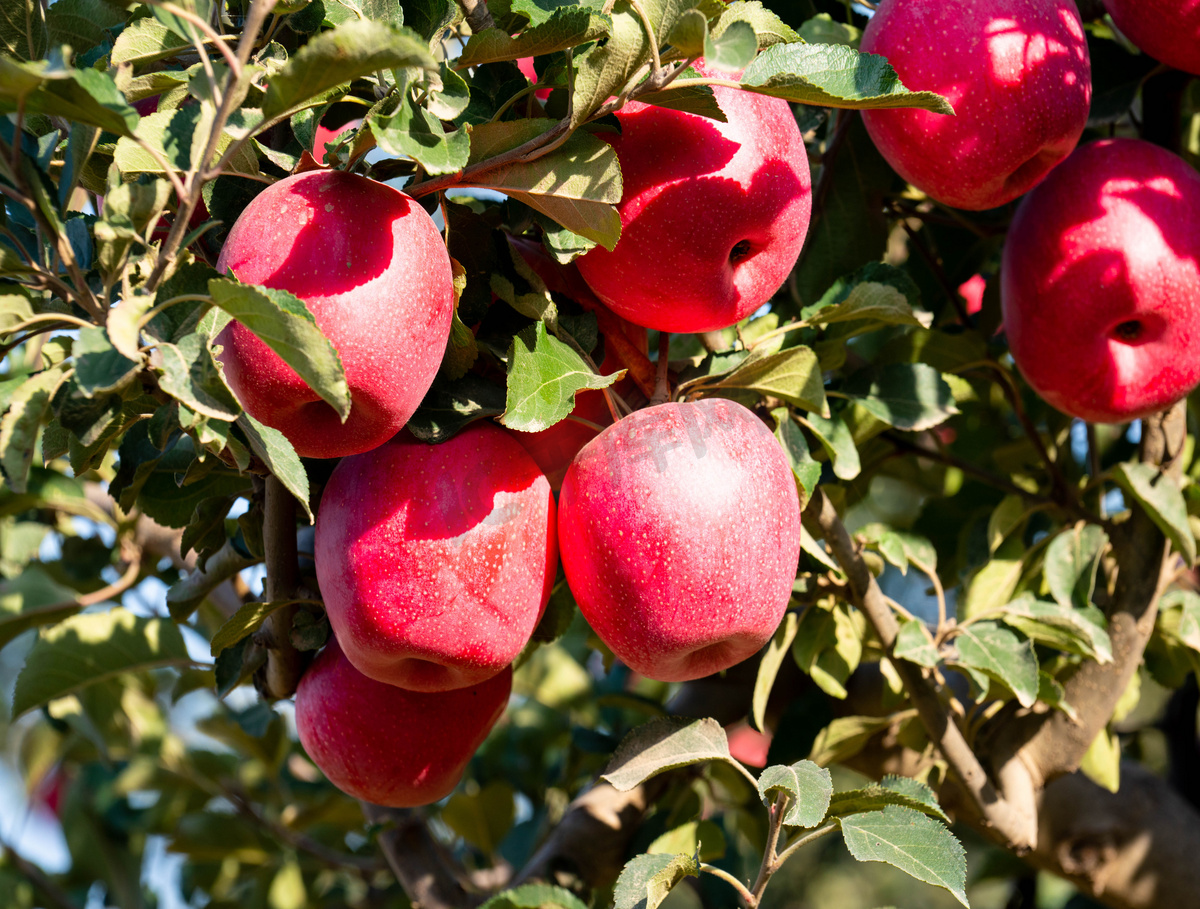apple: (559, 56, 818, 335), (557, 394, 804, 684), (295, 431, 568, 692), (214, 175, 462, 449), (997, 139, 1200, 435), (851, 1, 1093, 205)
